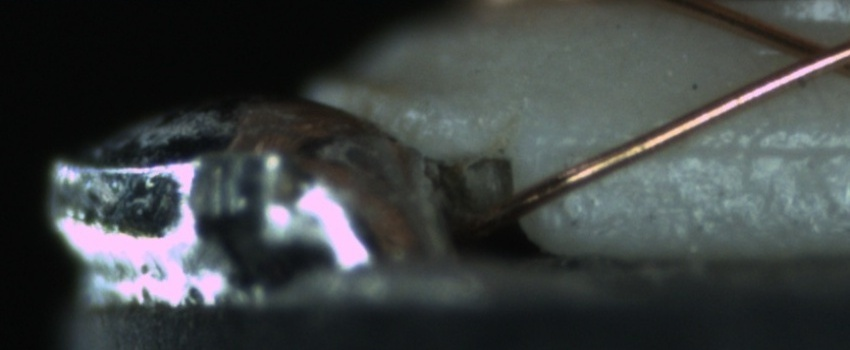CL: (772, 27, 849, 85)
DL: (562, 116, 849, 180)
